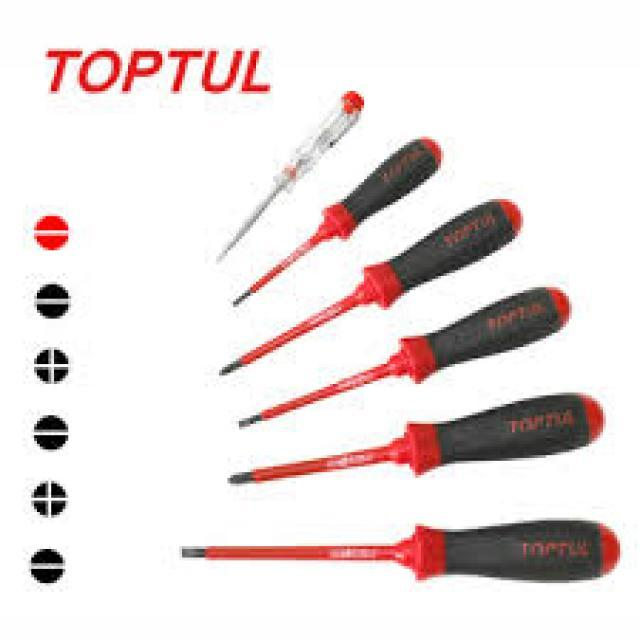screwdriver: (216, 196, 524, 381), (237, 277, 579, 428), (225, 384, 606, 486), (230, 131, 447, 310), (176, 518, 623, 588), (209, 84, 374, 269)
